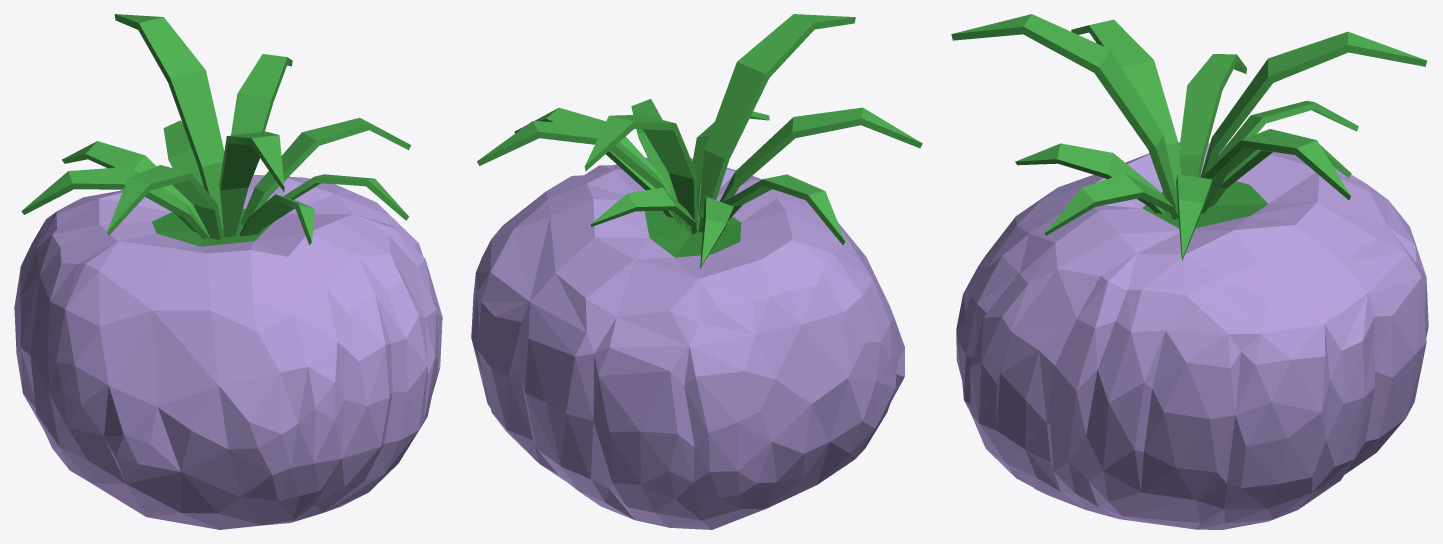
Rendered from fantasy_plant_056.fbx.
3 renders of one model, left to right at view 1: azimuth 30°, elevation 25°; view 2: azimuth 150°, elevation 25°; view 3: azimuth 270°, elevation 25°, orthographic. The views are drawn at different scales.
Visible parts, largest first — view 1: fantasy_plant.056; view 2: fantasy_plant.056; view 3: fantasy_plant.056.
Part boxes in pixels (x1,y1,x2,y2): fantasy_plant.056: [14, 14, 442, 529]; fantasy_plant.056: [471, 14, 922, 529]; fantasy_plant.056: [951, 14, 1428, 529].
Size of the model in its own units: 182 by 198 by 188.
Materials: 1 (1 with a texture image).
